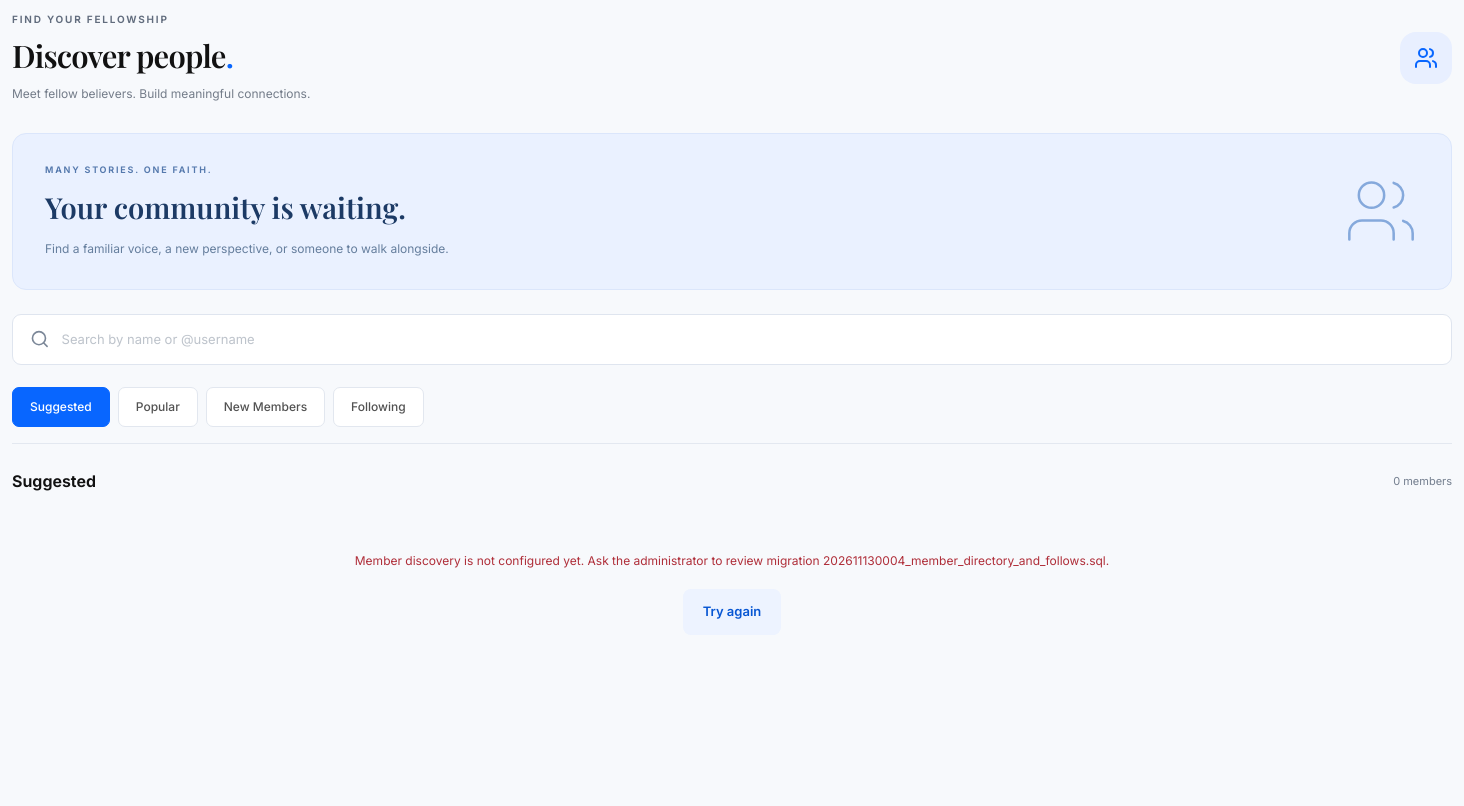
Test: real member directory UI using mocked data transport › offers retry for missing backend schema rather than hardcoded member cards
Check: the message shows "202611130004", box left=355, top=553, right=1109, bottom=568
Click the button "Try again" at (732, 612), box left=683, top=589, right=781, bottom=635
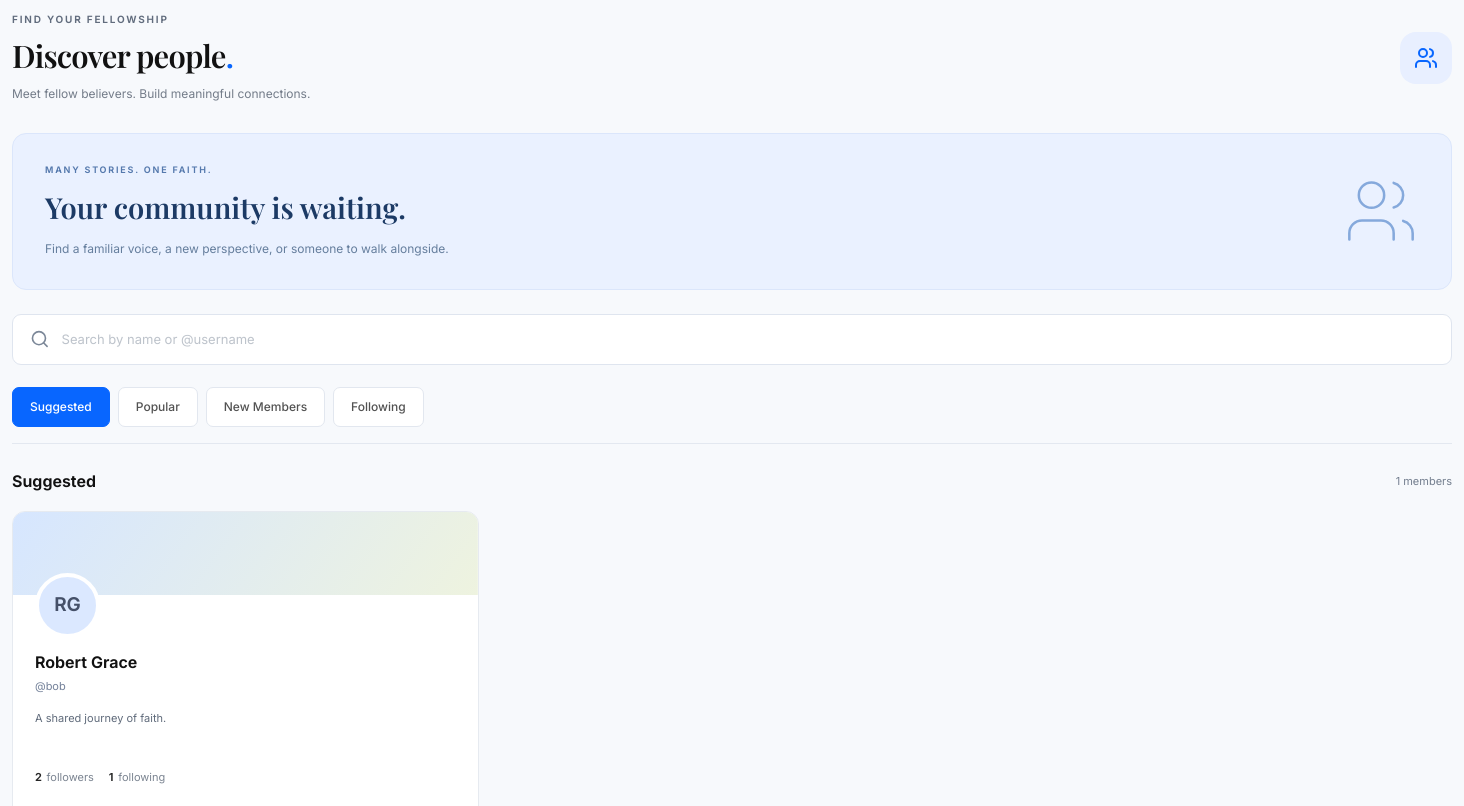
Check: the text "@bob" is shown, box left=35, top=678, right=66, bottom=692
